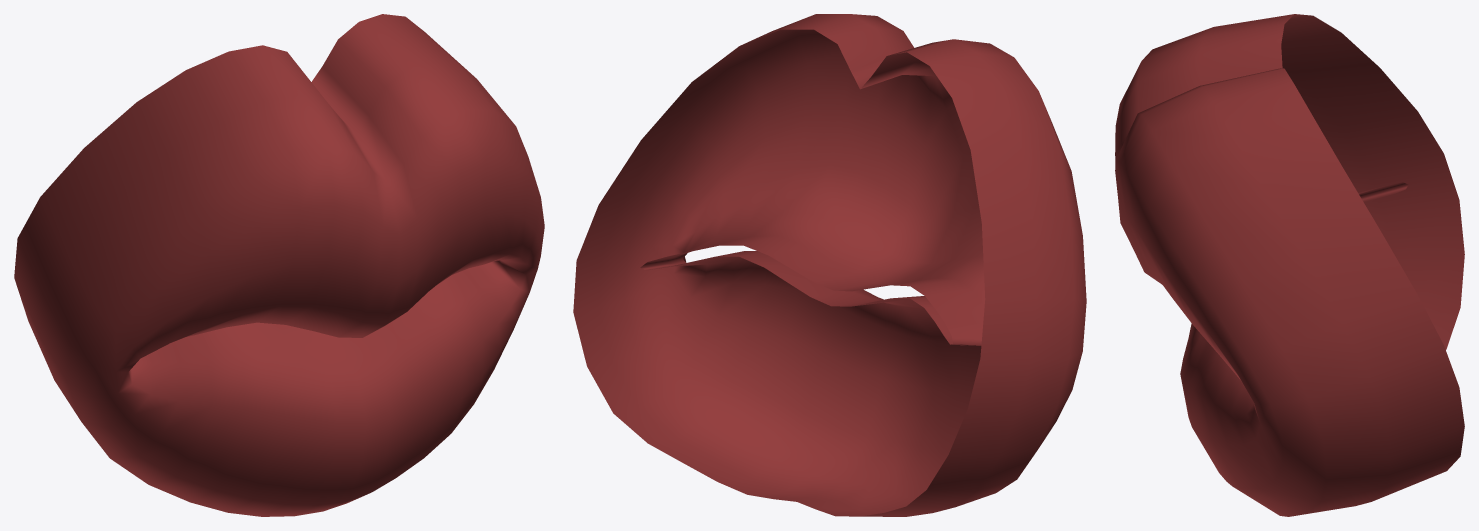
File: Mouth03.fbx
The picture shows the model from 3 angles, left to right: view 1: azimuth 30°, elevation 25°; view 2: azimuth 150°, elevation 25°; view 3: azimuth 270°, elevation 25°; orthographic projection. The views are drawn at different scales.
Visible parts, largest first — view 1: Mouth4; view 2: Mouth4; view 3: Mouth4.
Part boxes in pixels (left/top/right/bottom): Mouth4: left=14, top=14, right=544, bottom=516; Mouth4: left=573, top=14, right=1086, bottom=516; Mouth4: left=1115, top=14, right=1464, bottom=516.
Bounding box in the file's own units: 2.63 × 2.58 × 1.85.
